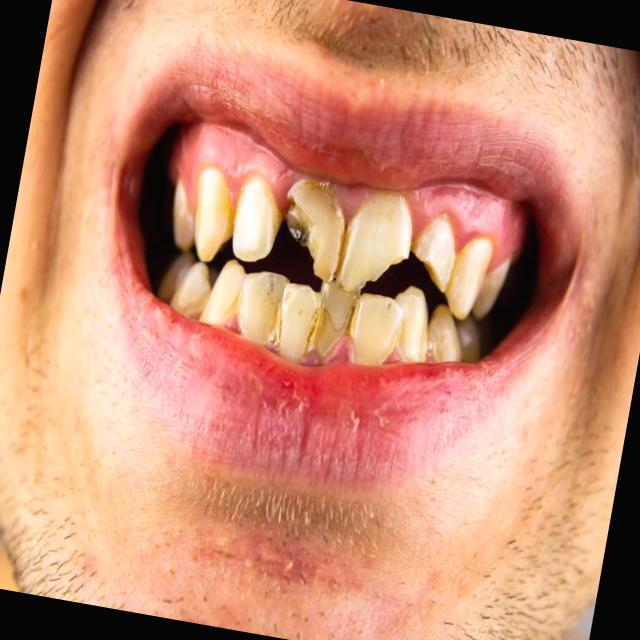caries: (332, 184, 418, 298), (276, 177, 351, 280), (408, 214, 459, 292)
